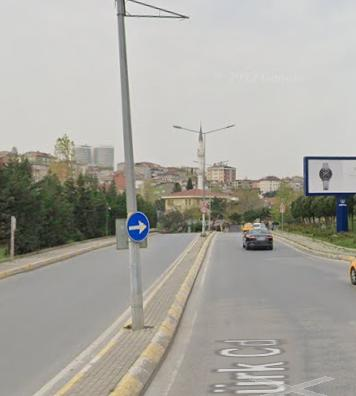turnright: (126, 212, 151, 242)
